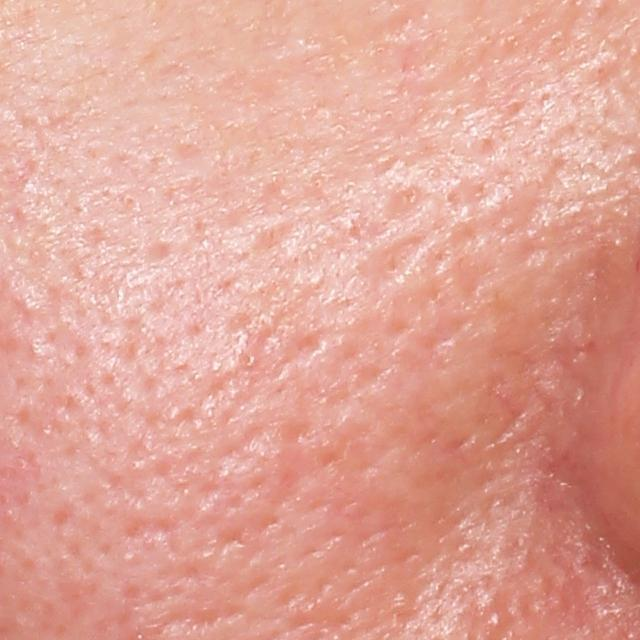atrophic_scar: (264, 443, 347, 514), (349, 236, 423, 300), (155, 606, 247, 638)
